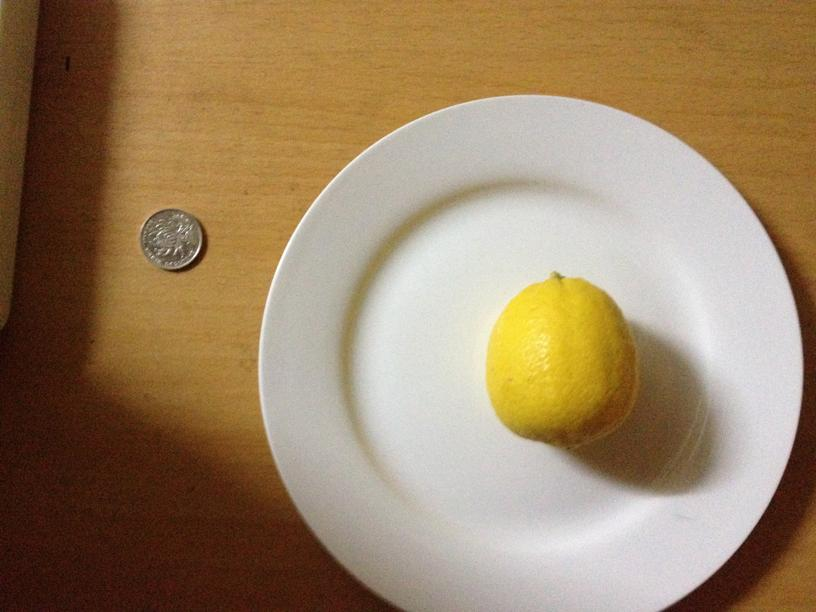coin: (139, 207, 202, 270)
lemon: (488, 272, 637, 450)
